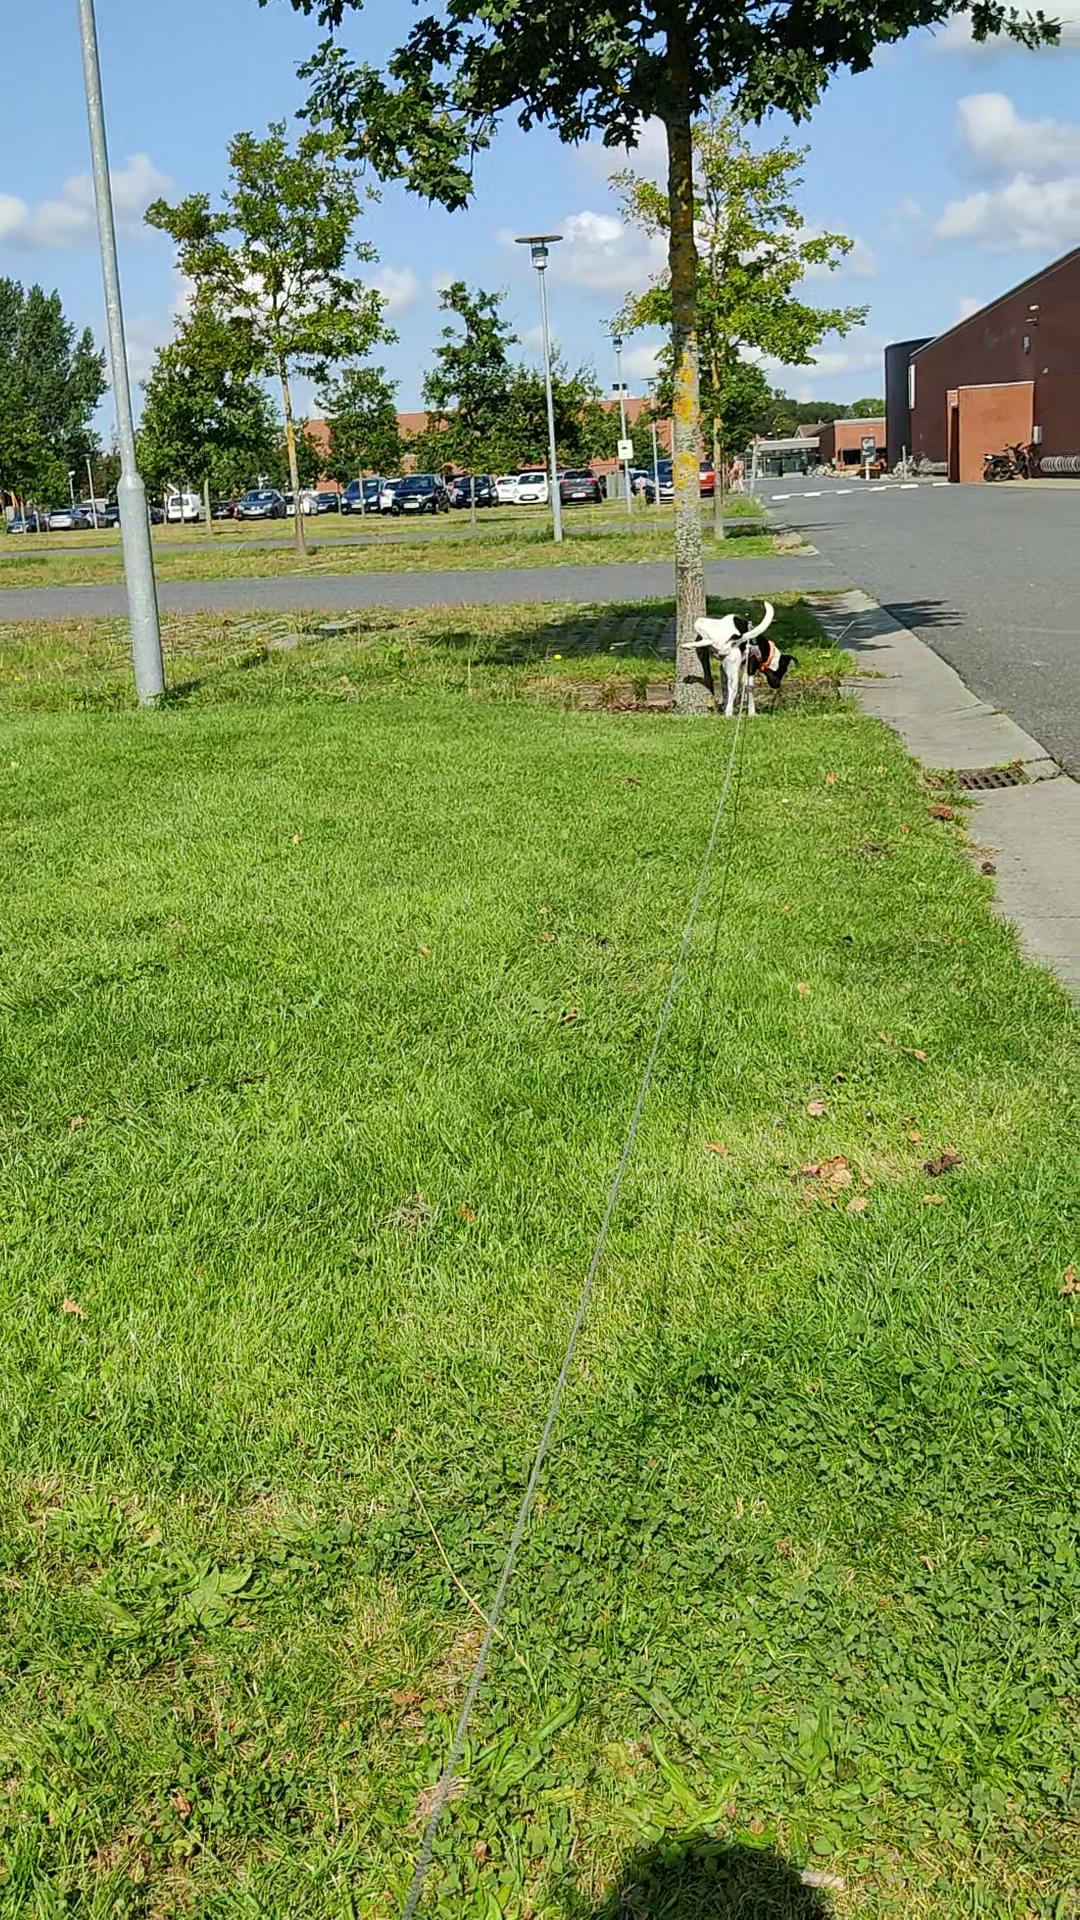Dog: (671, 589, 802, 723)
